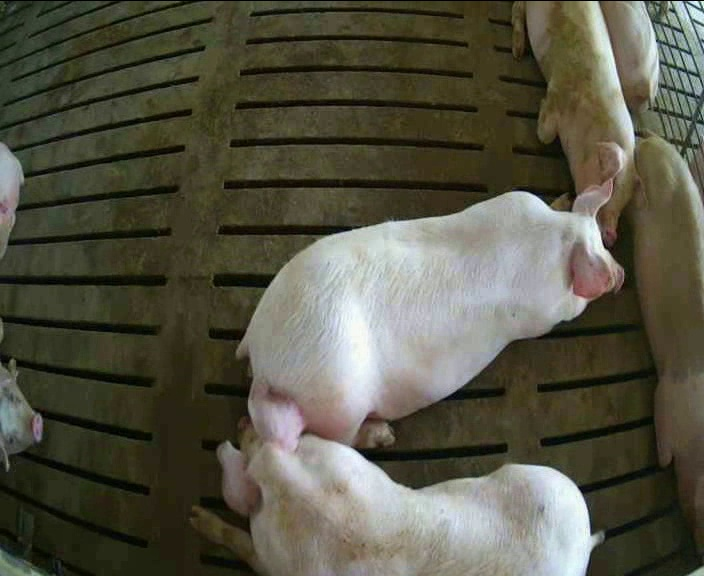pig: (237, 182, 621, 447), (191, 382, 601, 574), (510, 1, 647, 245), (627, 136, 703, 553)
